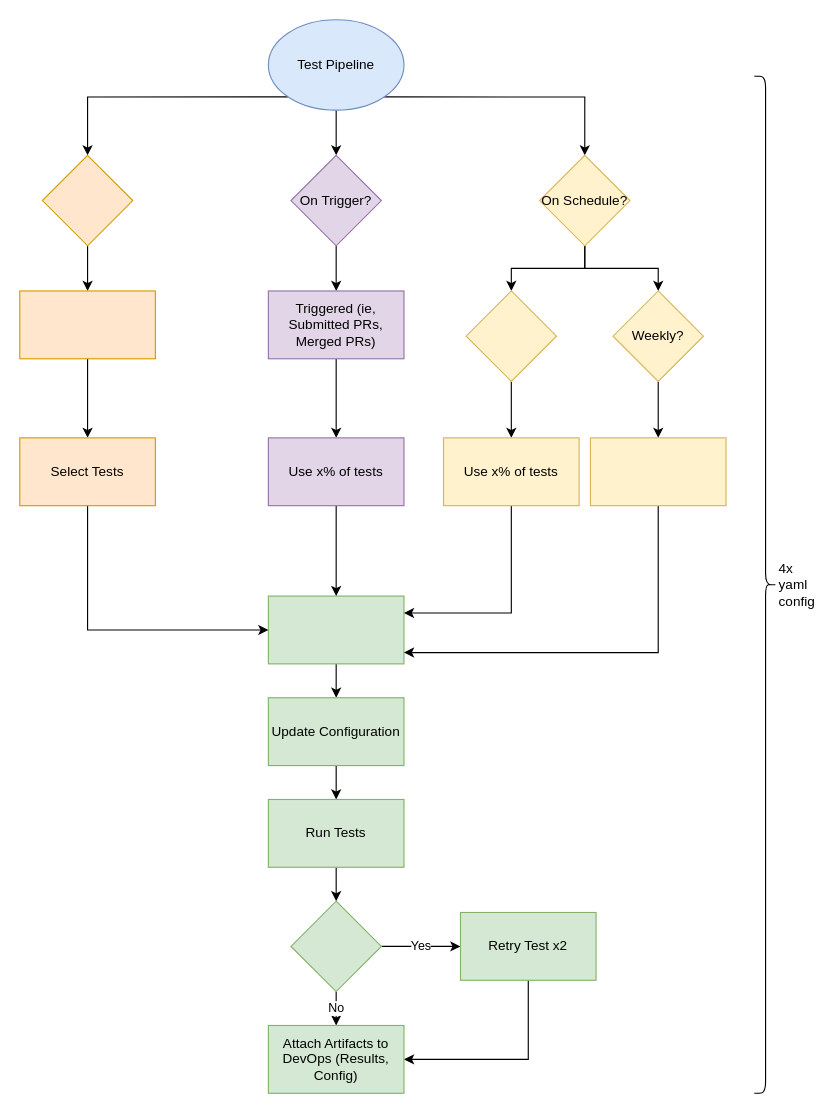
Some shapes in this 835 by 1113 pixel diagram are drawn without their labels. The centre of each missing label's shape, as x and y in pixels:
Clone Test Repo: [335,629]
Nightly?: [511,335]
On Demand?: [87,200]
Select Environment: [87,324]
Single Test Failure: [335,946]
Use 100% of tests: [657,471]
